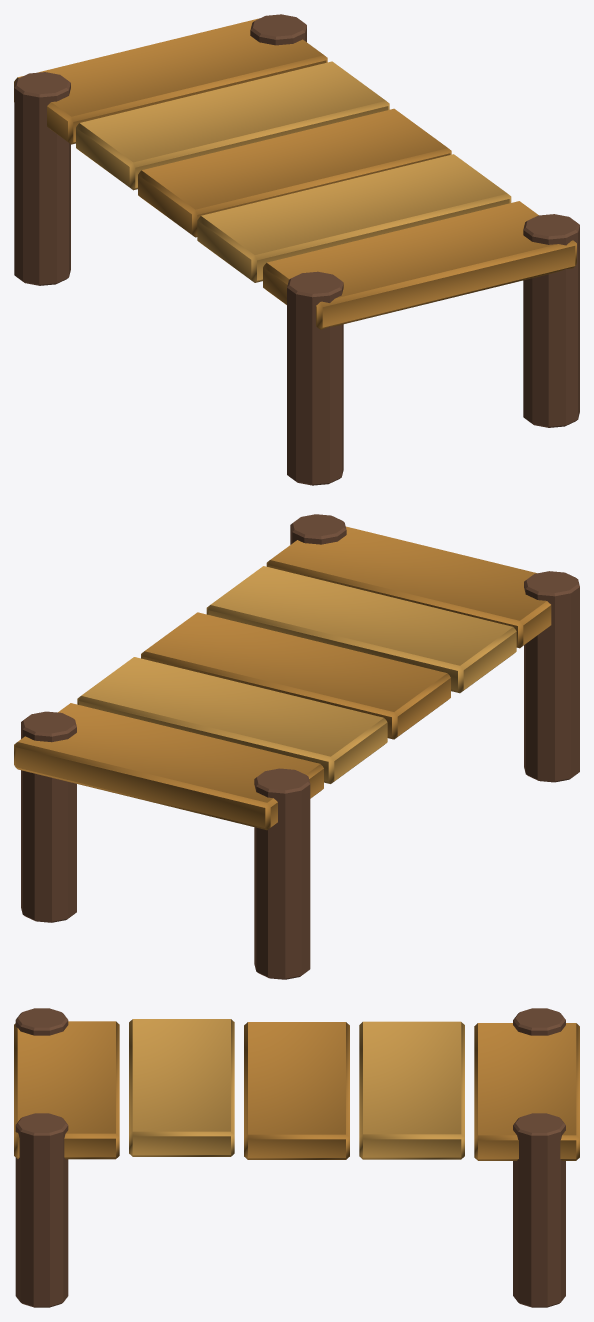
The model's file is prop_dock.glb.
The picture shows the model from 3 angles, top to bottom: view 1: azimuth 30°, elevation 25°; view 2: azimuth 150°, elevation 25°; view 3: azimuth 270°, elevation 25°; orthographic projection. The views are drawn at different scales.
Parts seen in each view (by area): view 1: dock_plank0, dock_plank1, dock_plank3, dock_plank2, dock_plank4, dock_pile0, dock_pile2, dock_pile1, dock_pile3; view 2: dock_plank4, dock_plank1, dock_plank3, dock_plank2, dock_plank0, dock_pile2, dock_pile0, dock_pile3, dock_pile1; view 3: dock_plank3, dock_plank1, dock_plank2, dock_plank4, dock_plank0, dock_pile1, dock_pile3, dock_pile0, dock_pile2.
Boxes of the visible parts, <box> form: dock_plank0: <box>263,201,576,329</box>; dock_plank1: <box>197,154,511,282</box>; dock_plank3: <box>76,61,389,190</box>; dock_plank2: <box>138,108,451,237</box>; dock_plank4: <box>14,18,327,144</box>; dock_pile0: <box>287,271,343,485</box>; dock_pile2: <box>14,72,70,285</box>; dock_pile1: <box>523,214,579,427</box>; dock_pile3: <box>250,14,306,45</box>; dock_plank4: <box>14,703,323,830</box>; dock_plank1: <box>206,566,516,693</box>; dock_plank3: <box>77,657,387,783</box>; dock_plank2: <box>141,612,450,739</box>; dock_plank0: <box>266,526,551,648</box>; dock_pile2: <box>254,768,310,979</box>; dock_pile0: <box>524,571,579,782</box>; dock_pile3: <box>21,711,76,922</box>; dock_pile1: <box>290,514,346,544</box>; dock_plank3: <box>359,1021,464,1159</box>; dock_plank1: <box>129,1019,234,1156</box>; dock_plank2: <box>244,1022,349,1159</box>; dock_plank4: <box>474,1023,579,1160</box>; dock_plank0: <box>14,1021,119,1159</box>; dock_pile1: <box>15,1113,68,1307</box>; dock_pile3: <box>513,1113,565,1307</box>; dock_pile0: <box>15,1008,68,1035</box>; dock_pile2: <box>513,1008,565,1035</box>.
Bounding box in the file's own units: 0.9617 × 0.62 × 1.82.
